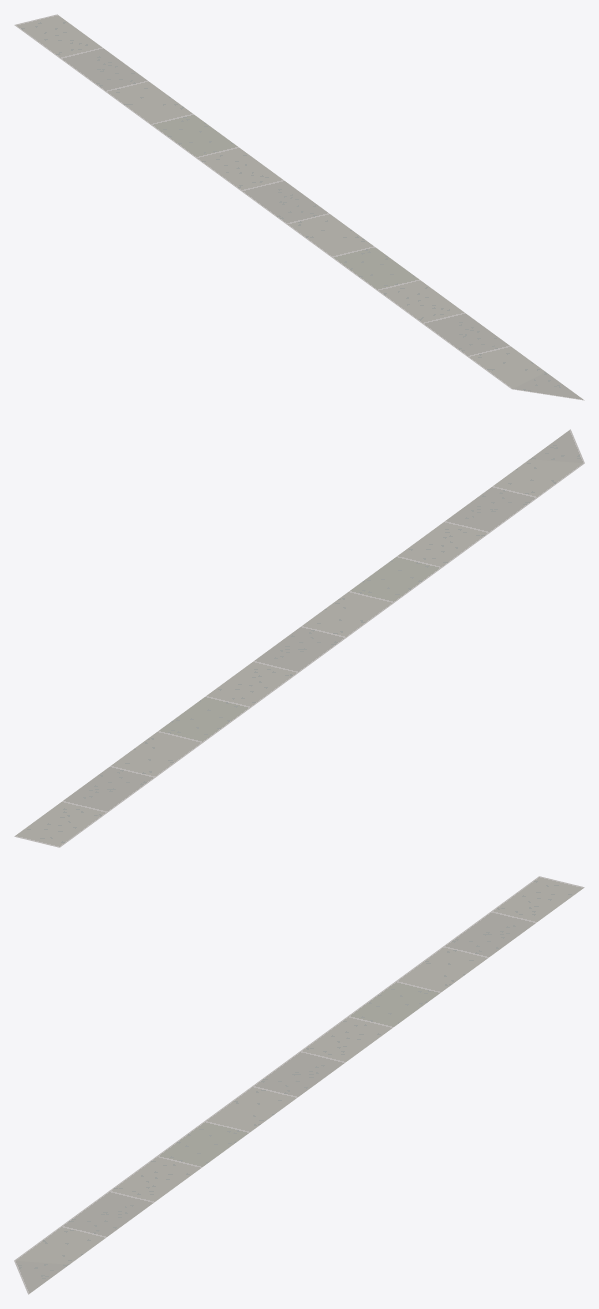
File: kd_stage_135c43_3_0_bounded_piece_2.glb
3 renders of one model, top to bottom at view 1: azimuth 30°, elevation 25°; view 2: azimuth 150°, elevation 25°; view 3: azimuth 330°, elevation 25°, orthographic. The views are drawn at different scales.
Visible parts, largest first — view 1: kd_stage_135c43_3_0_bounded_piece_2; view 2: kd_stage_135c43_3_0_bounded_piece_2; view 3: kd_stage_135c43_3_0_bounded_piece_2.
Boxes of the visible parts, <box> form: kd_stage_135c43_3_0_bounded_piece_2: <box>14,14,584,400</box>; kd_stage_135c43_3_0_bounded_piece_2: <box>14,429,584,847</box>; kd_stage_135c43_3_0_bounded_piece_2: <box>14,876,584,1294</box>.
Size of the model in its own units: 0.1767 by 1.64e-07 by 3.73.
1 material, 1 textured.
